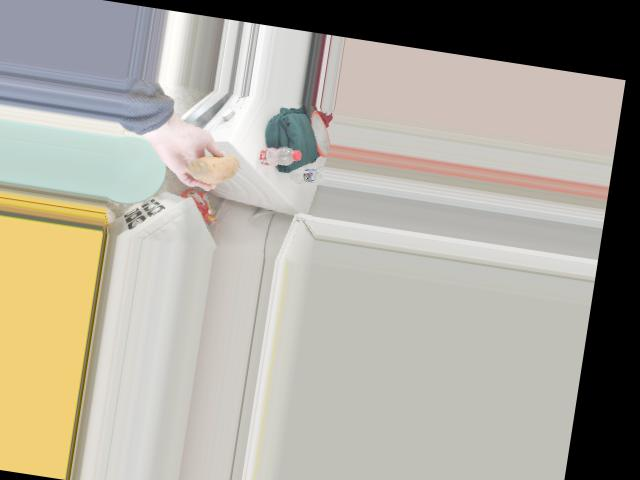sweet_potato: (180, 152, 241, 185)
